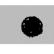correct: (19, 12, 47, 39)
